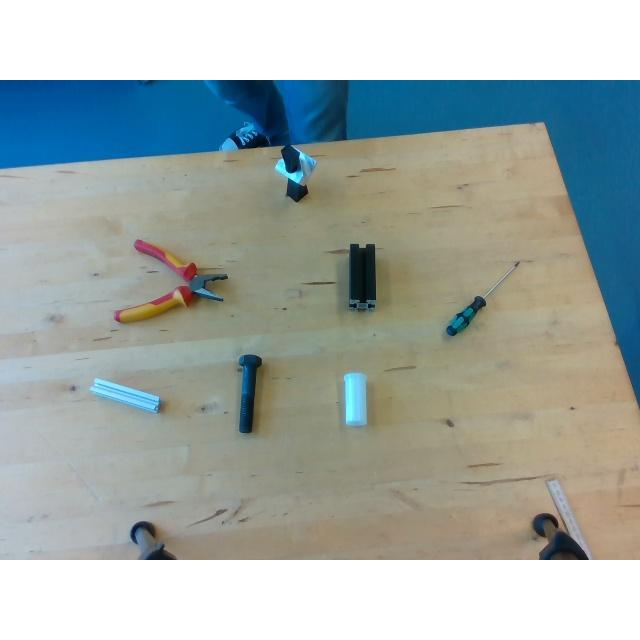F20_20_G: (90, 378, 160, 410)
M20_100: (237, 354, 260, 431)
S40_40_B: (348, 243, 376, 309)
Screwdriver: (444, 260, 524, 338)
Spacer: (343, 372, 367, 424)
